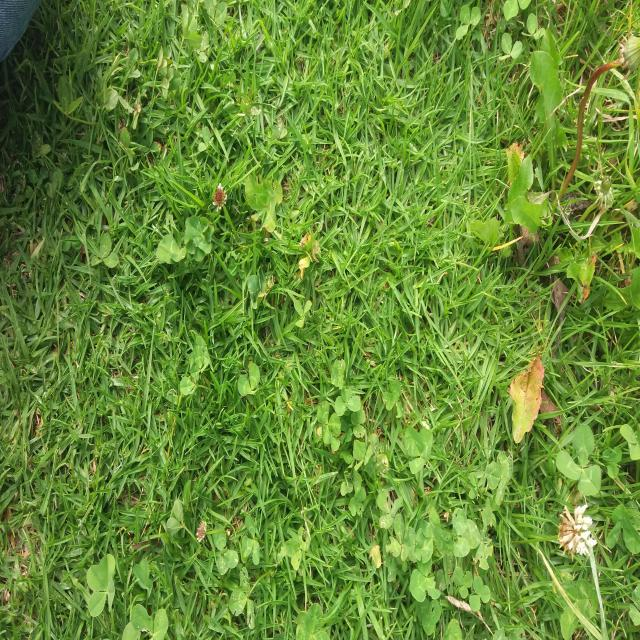Four Leaf Clover: (245, 174, 283, 233)
